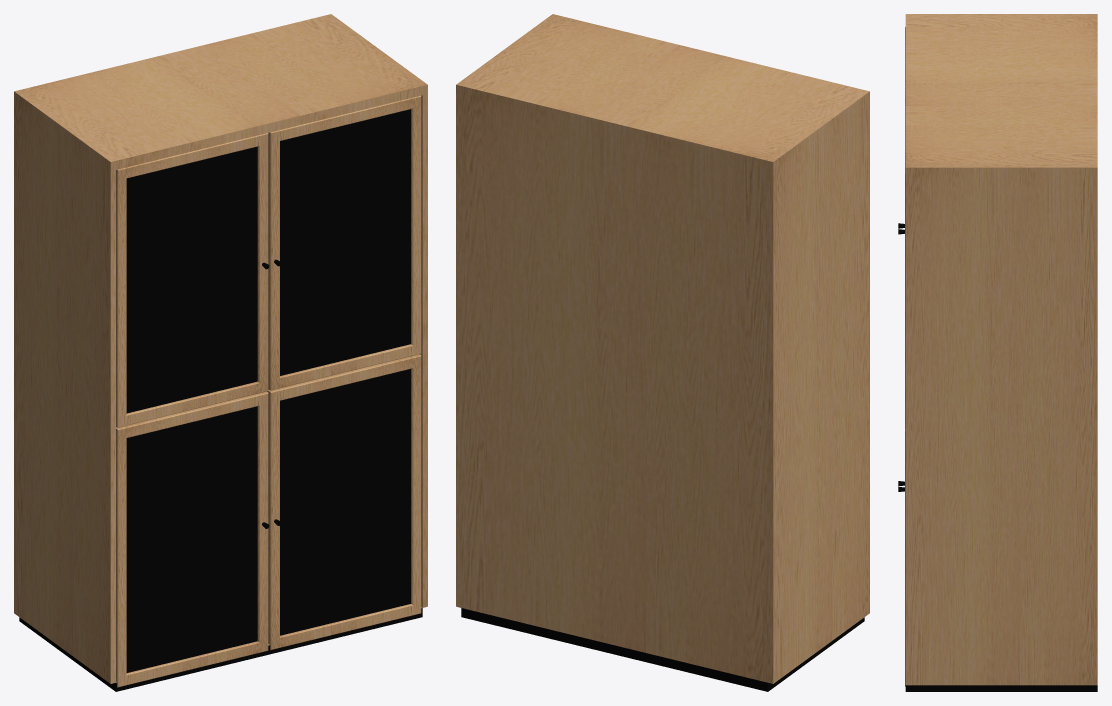
The model's file is cabinet.FBX.
3 views of the same model, side by side, from view 1: azimuth 30°, elevation 25°; view 2: azimuth 150°, elevation 25°; view 3: azimuth 270°, elevation 25° (orthographic).
Visible parts, largest first — view 1: Bookcase, Door04, Door02, Door03, Door01; view 2: Bookcase; view 3: Bookcase, Door02.
Boxes of the visible parts, bbox=[...] form: Bookcase: bbox=[14, 14, 427, 691]; Door04: bbox=[267, 354, 421, 650]; Door02: bbox=[268, 95, 421, 390]; Door03: bbox=[116, 391, 269, 687]; Door01: bbox=[116, 133, 269, 427]; Bookcase: bbox=[456, 14, 869, 691]; Bookcase: bbox=[905, 14, 1097, 691]; Door02: bbox=[898, 101, 905, 428].
Bounding box in the file's own units: 90 × 144 × 49.33.
3 materials, 1 textured.
